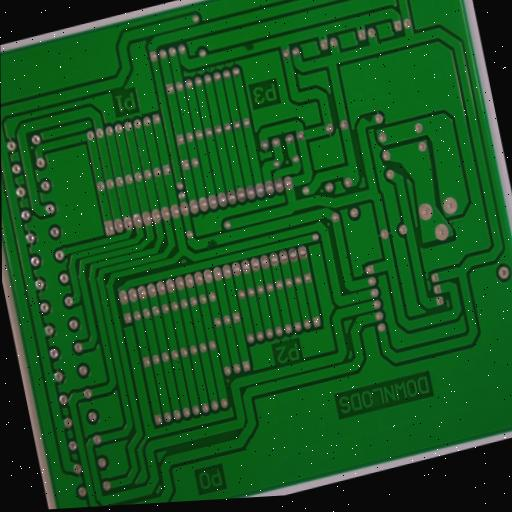mouse_bite: (202, 234, 220, 253), (239, 38, 258, 55), (360, 109, 377, 127)
